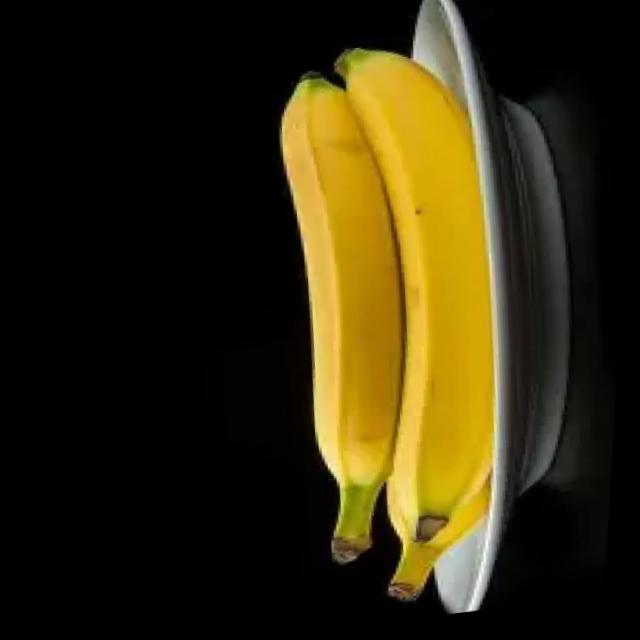BANANA: (274, 44, 496, 603)
